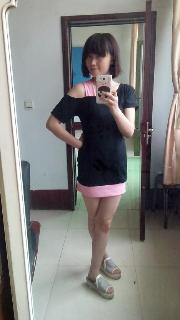short sleeve dress: (51, 80, 138, 198)
